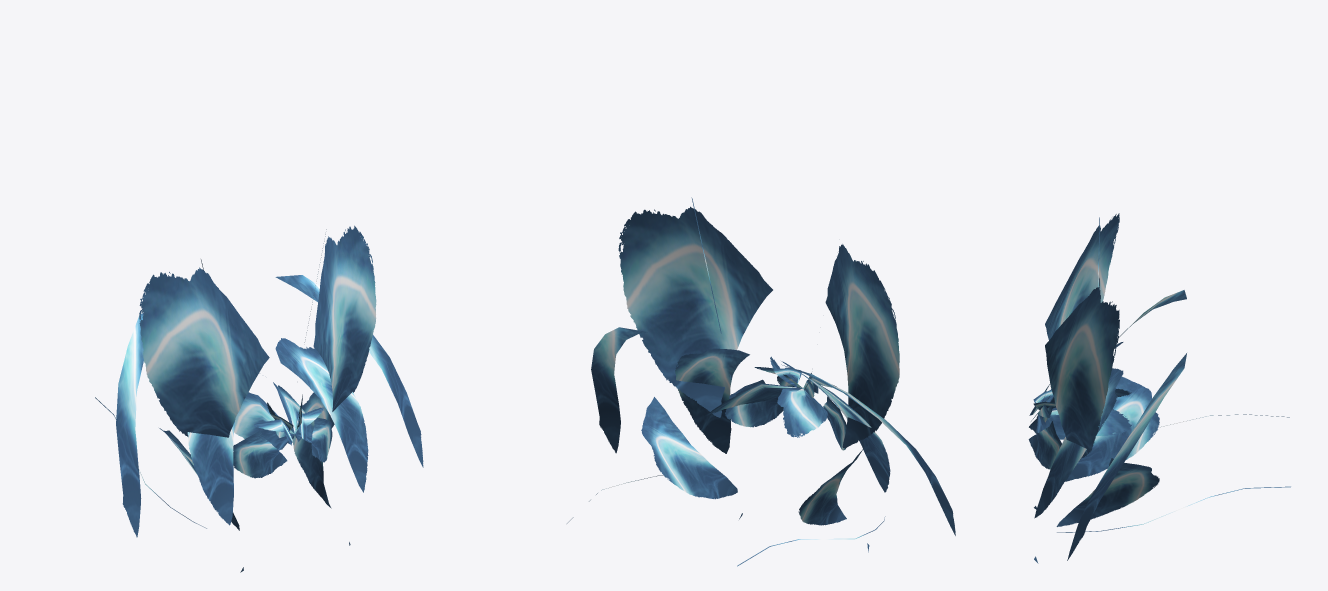
Rendered from angle_wings.FBX.
The picture shows the model from 3 angles, left to right: view 1: azimuth 30°, elevation 25°; view 2: azimuth 150°, elevation 25°; view 3: azimuth 270°, elevation 25°; orthographic projection. The views are drawn at different scales.
Parts seen in each view (by area): view 1: wings; view 2: wings; view 3: wings.
Boxes of the visible parts, x1,y1,x2,y2 form: wings: [95, 225, 423, 572]; wings: [567, 197, 955, 566]; wings: [1028, 213, 1290, 563].
Size of the model in its own units: 251 by 263 by 158.
